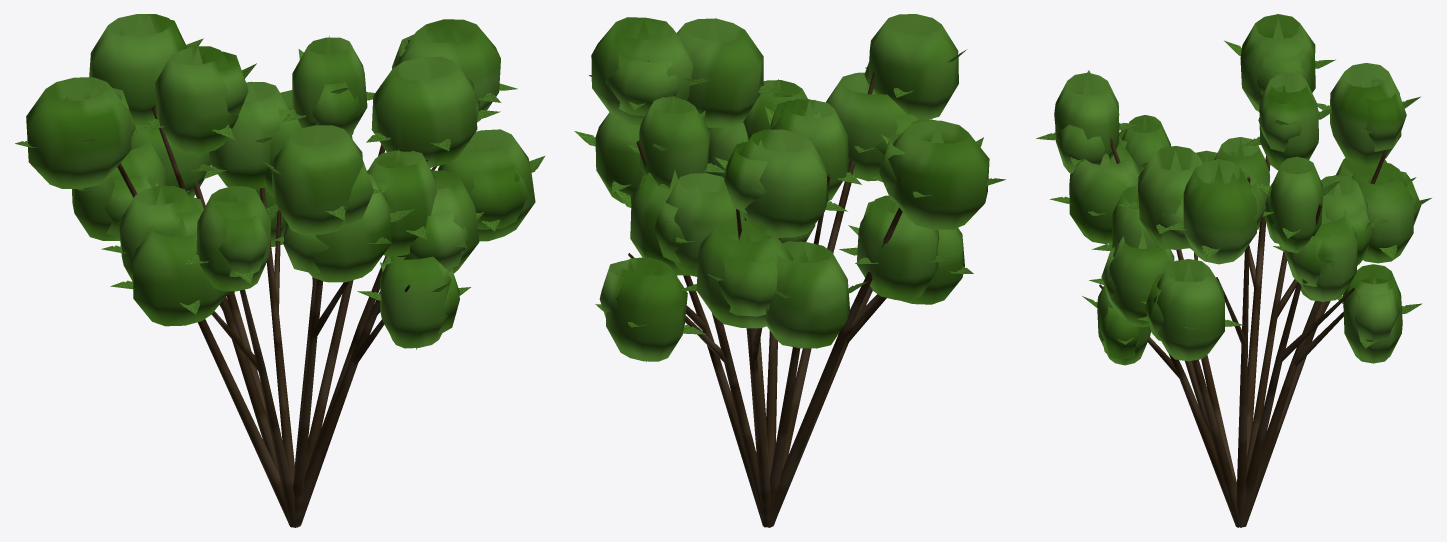
Rendered from filbert_small02-lod0.glb.
3 views of the same model, side by side, from view 1: azimuth 30°, elevation 25°; view 2: azimuth 150°, elevation 25°; view 3: azimuth 270°, elevation 25° (orthographic). The views are drawn at different scales.
Parts seen in each view (by area): view 1: TZ_filbert_shrub_Batch_00_LOD0, TZ_filbert_shrub_Batch_02_LOD0, TZ_filbert_shrub_Batch_01_LOD0; view 2: TZ_filbert_shrub_Batch_00_LOD0, TZ_filbert_shrub_Batch_02_LOD0, TZ_filbert_shrub_Batch_01_LOD0; view 3: TZ_filbert_shrub_Batch_00_LOD0, TZ_filbert_shrub_Batch_02_LOD0, TZ_filbert_shrub_Batch_01_LOD0.
Boxes of the visible parts, x1,y1,x2,y2 form: TZ_filbert_shrub_Batch_00_LOD0: (26, 14, 535, 349); TZ_filbert_shrub_Batch_02_LOD0: (117, 40, 436, 527); TZ_filbert_shrub_Batch_01_LOD0: (15, 38, 544, 314); TZ_filbert_shrub_Batch_00_LOD0: (591, 14, 989, 361); TZ_filbert_shrub_Batch_02_LOD0: (628, 61, 902, 527); TZ_filbert_shrub_Batch_01_LOD0: (574, 49, 1005, 334); TZ_filbert_shrub_Batch_00_LOD0: (1054, 14, 1421, 365); TZ_filbert_shrub_Batch_02_LOD0: (1099, 138, 1388, 527); TZ_filbert_shrub_Batch_01_LOD0: (1036, 40, 1431, 348).
Bounding box in the file's own units: 1.12 × 1.05 × 0.8928.
3 materials, 3 textured.
